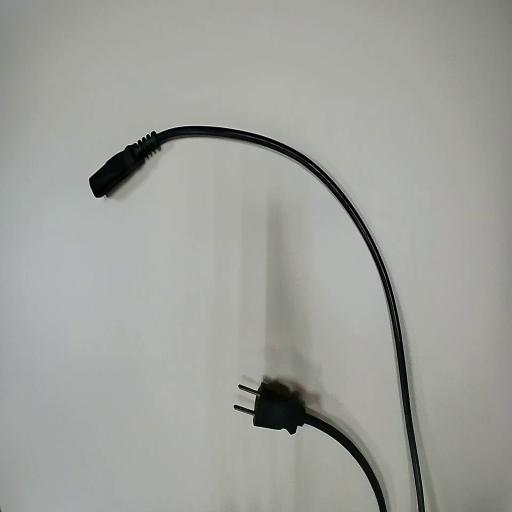wire: (90, 127, 423, 511), (236, 381, 386, 511)
